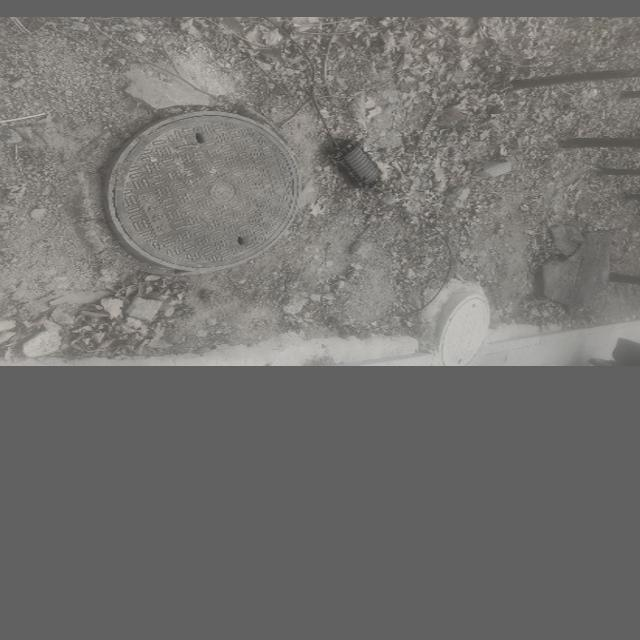good: (103, 110, 302, 270)
